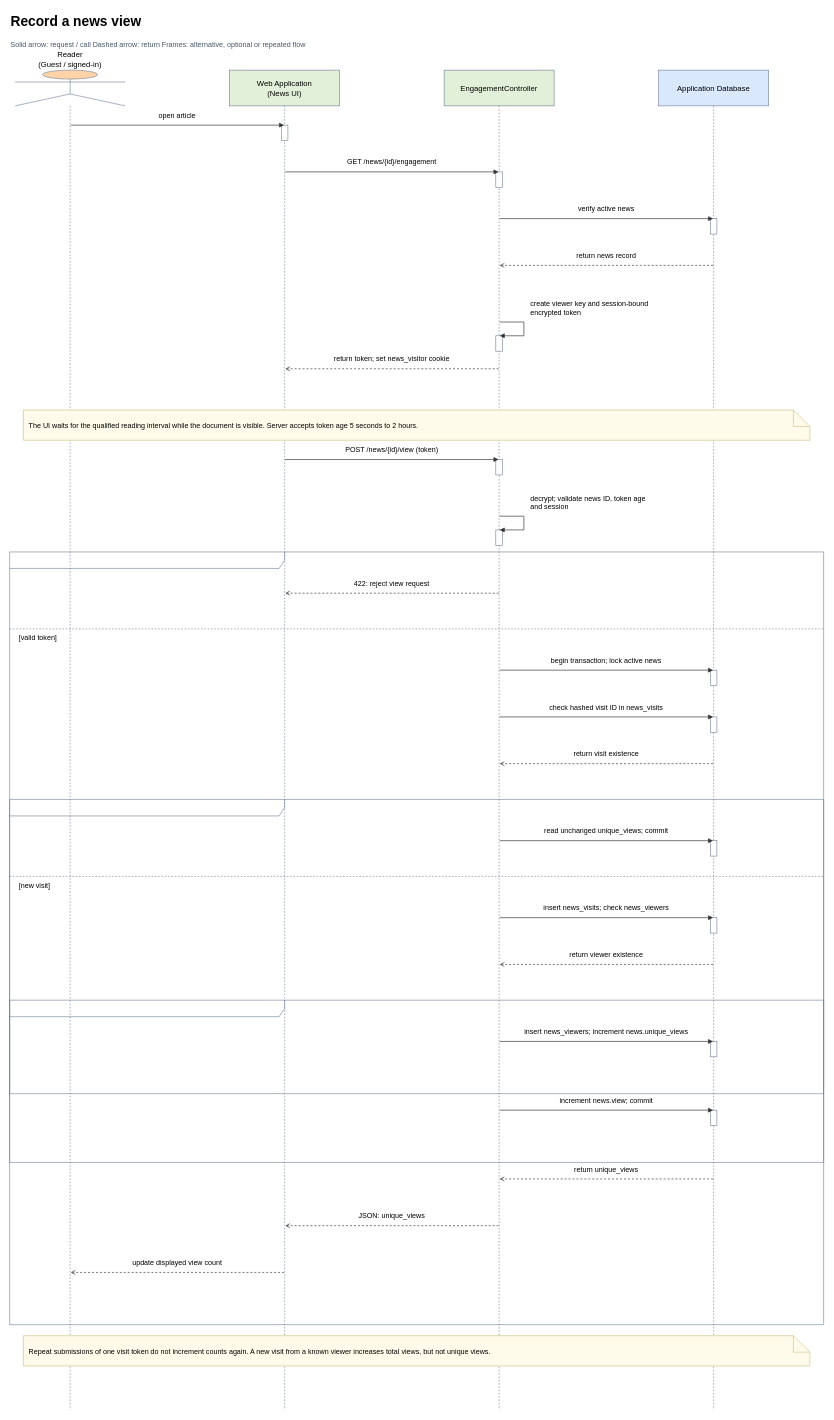
Some shapes in this 834 by 1420 pixel diagram are drawn without their labels. The shapes that lost their labels are listed below. From the top down, each one's box as (x1, y1, x2, y2) in pixels, then its label:
(9, 551, 824, 1325): alt [invalid token]
(9, 799, 824, 1162): alt [visit already recorded]
(9, 1000, 824, 1094): opt [new viewer]
